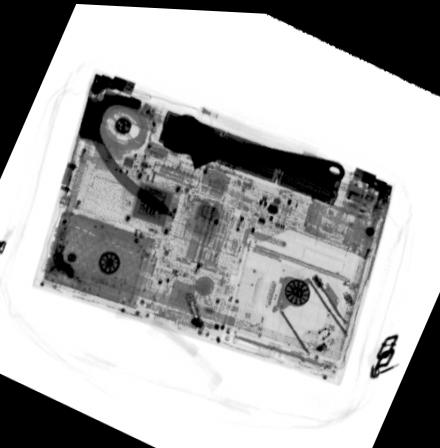Wrench: (161, 113, 347, 179)
